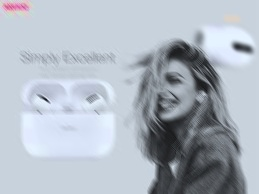earphone: (197, 85, 209, 103)
